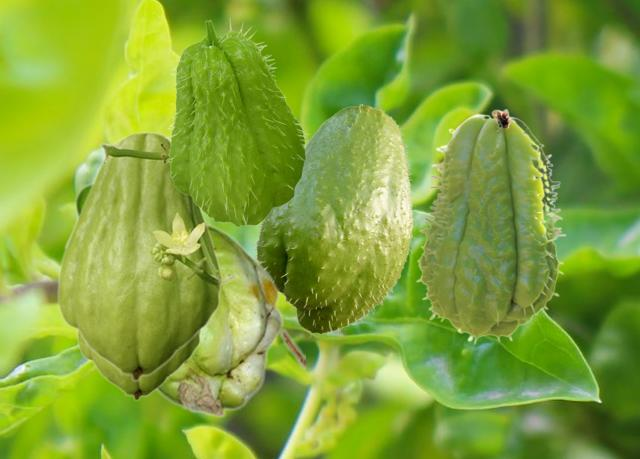sayote: (63, 181, 304, 417), (56, 131, 237, 381), (251, 104, 414, 336), (415, 108, 565, 344), (164, 17, 309, 226), (76, 318, 213, 400)
